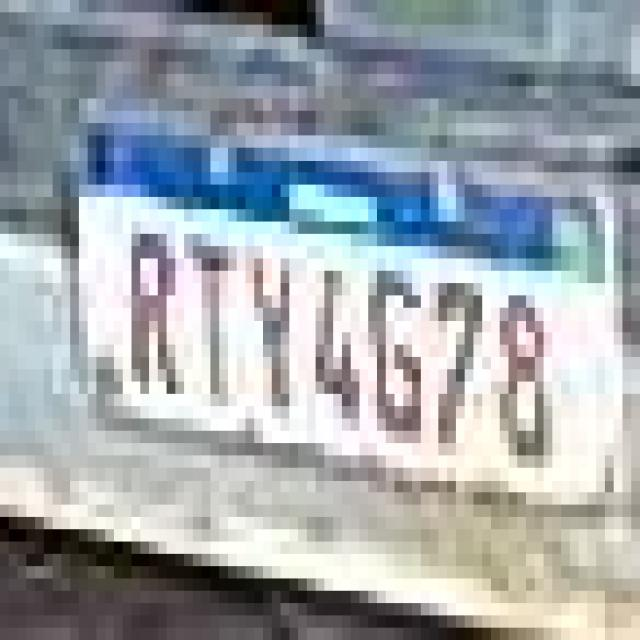4: (304, 254, 362, 431)
7: (428, 274, 488, 460)
8: (494, 278, 559, 471)
G: (364, 263, 428, 445)
R: (125, 222, 185, 400)
T: (186, 228, 244, 410)
Y: (246, 247, 301, 420)
